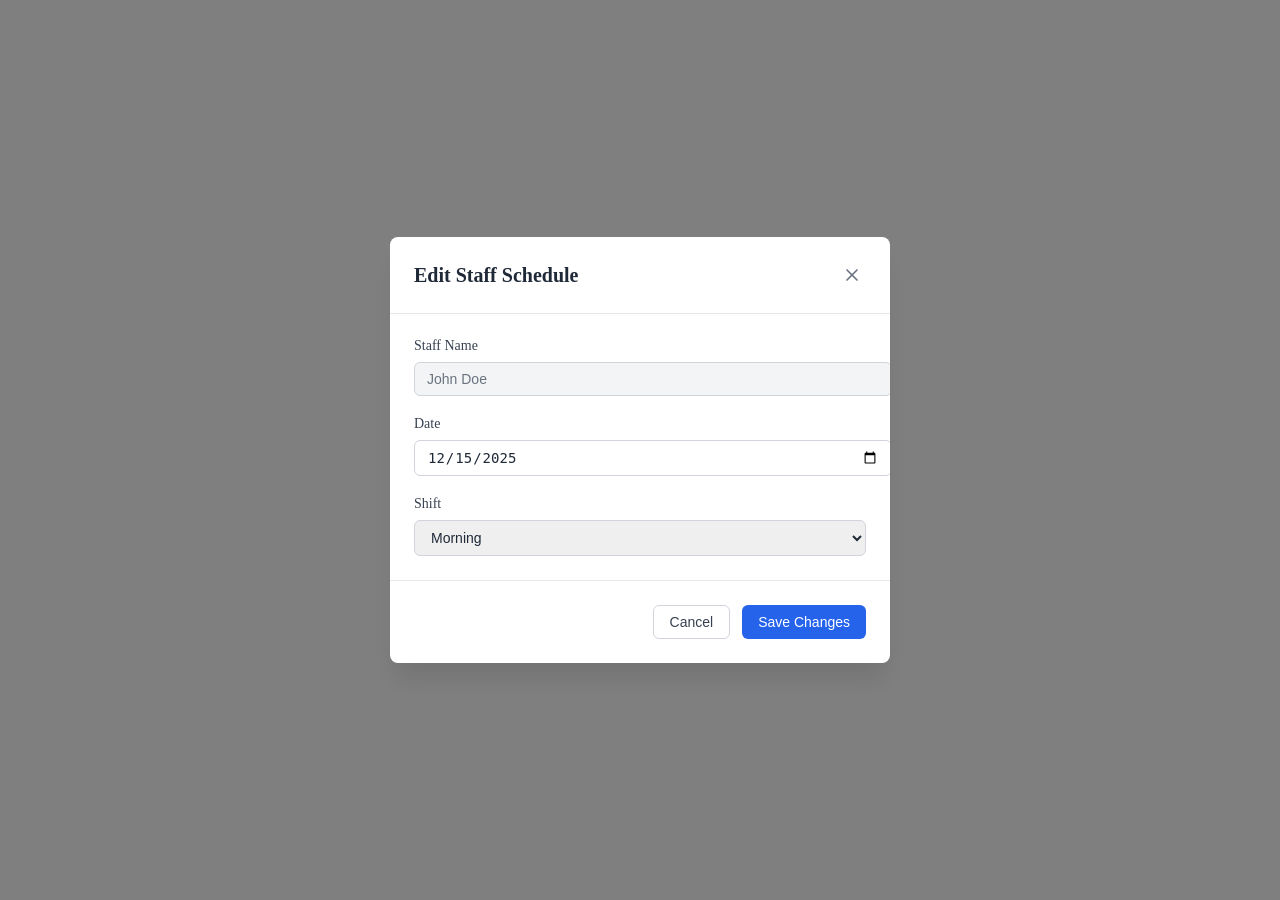
Scenario: EditStaffModal Component › disables buttons during loading
The image size is (1280, 900).
Click the button "Save Changes" at (804, 622), box [742,605,866,639]
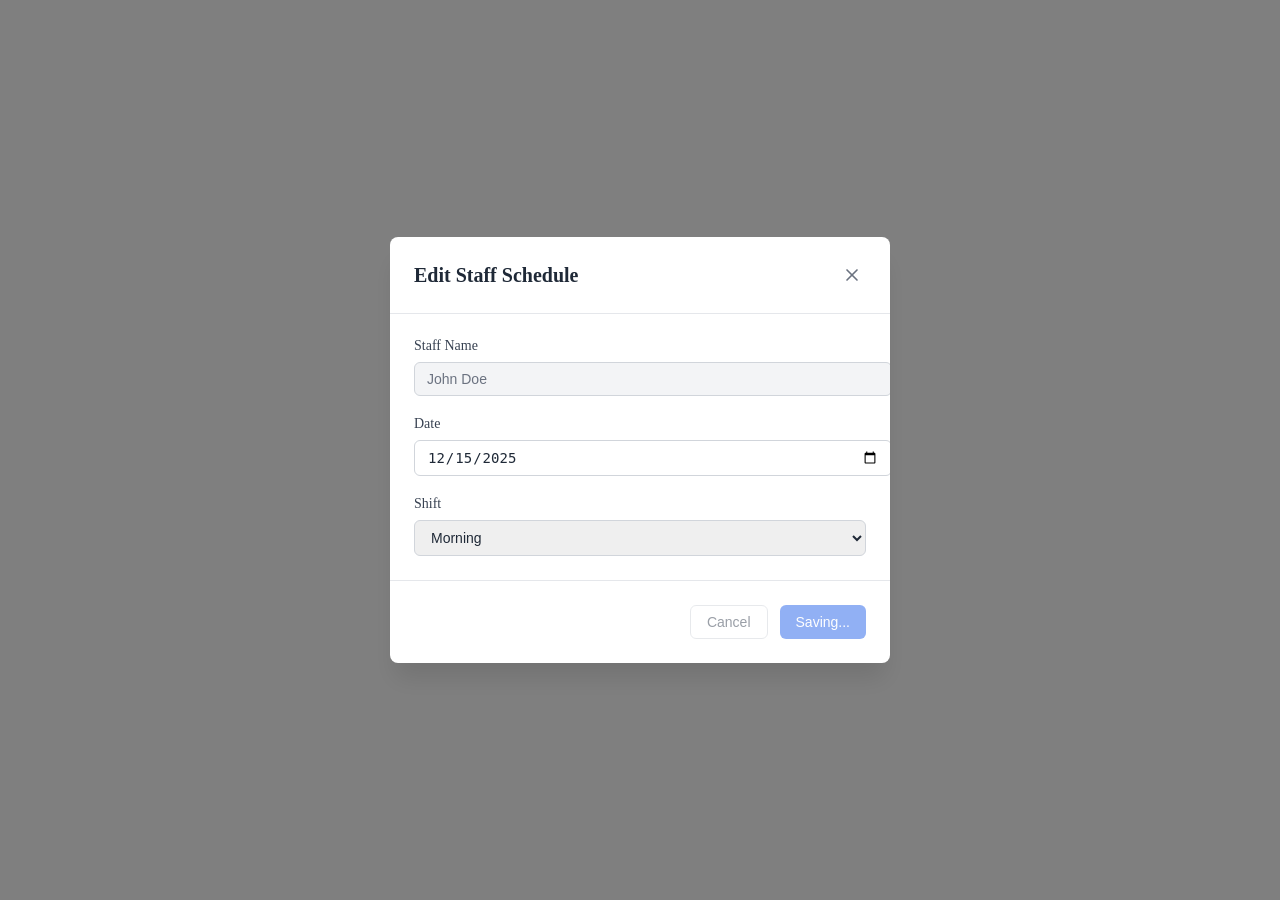
Check: the button "Saving..." is disabled, box [780,605,866,639]
Check: the button "Cancel" is disabled, box [690,605,768,639]
